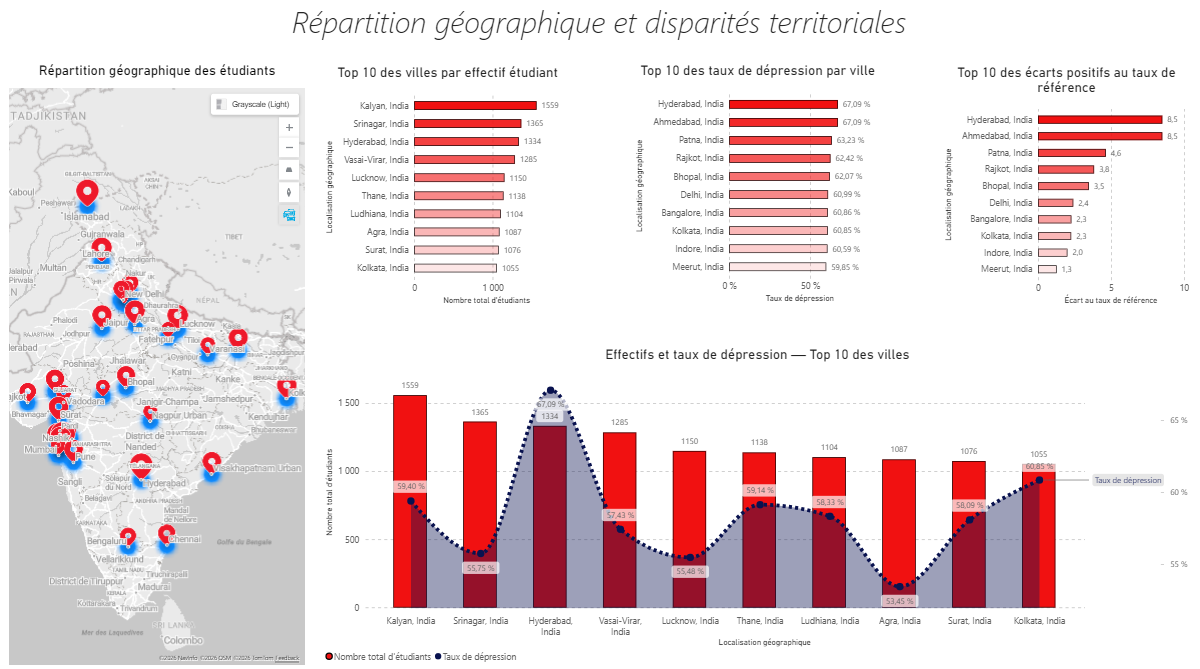

The page's visual inventory and layout, read from the dashboard file:
{"tool":"powerbi","page":{"name":"Disparités territoriales","canvas":[1920,1080],"ordinal":1},"visuals":[{"type":"azureMap","title":"Répartition géographique des étudiants","fields":{"Category":["Données des étudiants.Localisation géographique"],"Size":["Données des étudiants.Nombre total d'étudiants"]},"box":[0,86,506,994],"z":0},{"type":"clusteredBarChart","title":"Top 10 des villes par effectif étudiant","fields":{"Category":["Données des étudiants.Localisation géographique"],"Y":["Données des étudiants.Nombre total d'étudiants"]},"box":[506,88,424,414],"z":1000},{"type":"clusteredBarChart","title":"Top 10 des taux de dépression par ville","fields":{"Category":["Données des étudiants.Localisation géographique"],"Y":["Données des étudiants.Taux de dépression"]},"box":[1002.5,85,424,414],"z":2000},{"type":"clusteredBarChart","title":"Top 10 des écarts positifs au taux de référence","fields":{"Category":["Données des étudiants.Localisation géographique"],"Y":["Données des étudiants.Écart au taux de référence"]},"box":[1495,87.5,424,414.4],"z":3000},{"type":"lineClusteredColumnComboChart","title":"Effectifs et taux de dépression — Top 10 des villes","fields":{"Category":["Données des étudiants.Localisation géographique"],"Y":["Données des étudiants.Nombre total d'étudiants"],"Y2":["Données des étudiants.Taux de dépression"]},"box":[505,540,1415,540],"z":4000},{"type":"textbox","box":[0,0,1920,86],"z":5000}]}

Visuals, with their boxes in screenshot pixels (x1, y1, x2, y2), scaled from the page's 1920x1080 canvas onto the 1200x669 screenshot:
"Répartition géographique des étudiants" azureMap: [x1=0, y1=53, x2=316, y2=668]
"Top 10 des villes par effectif étudiant" clusteredBarChart: [x1=316, y1=55, x2=581, y2=311]
"Top 10 des taux de dépression par ville" clusteredBarChart: [x1=627, y1=53, x2=892, y2=309]
"Top 10 des écarts positifs au taux de référence" clusteredBarChart: [x1=934, y1=54, x2=1199, y2=311]
"Effectifs et taux de dépression — Top 10 des villes" lineClusteredColumnComboChart: [x1=316, y1=334, x2=1199, y2=668]
textbox: [x1=0, y1=0, x2=1199, y2=53]
